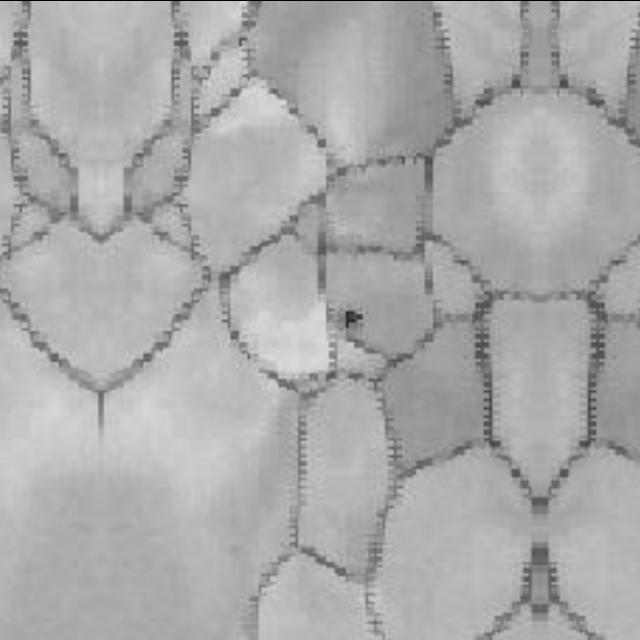good_void: (340, 308, 364, 331)
